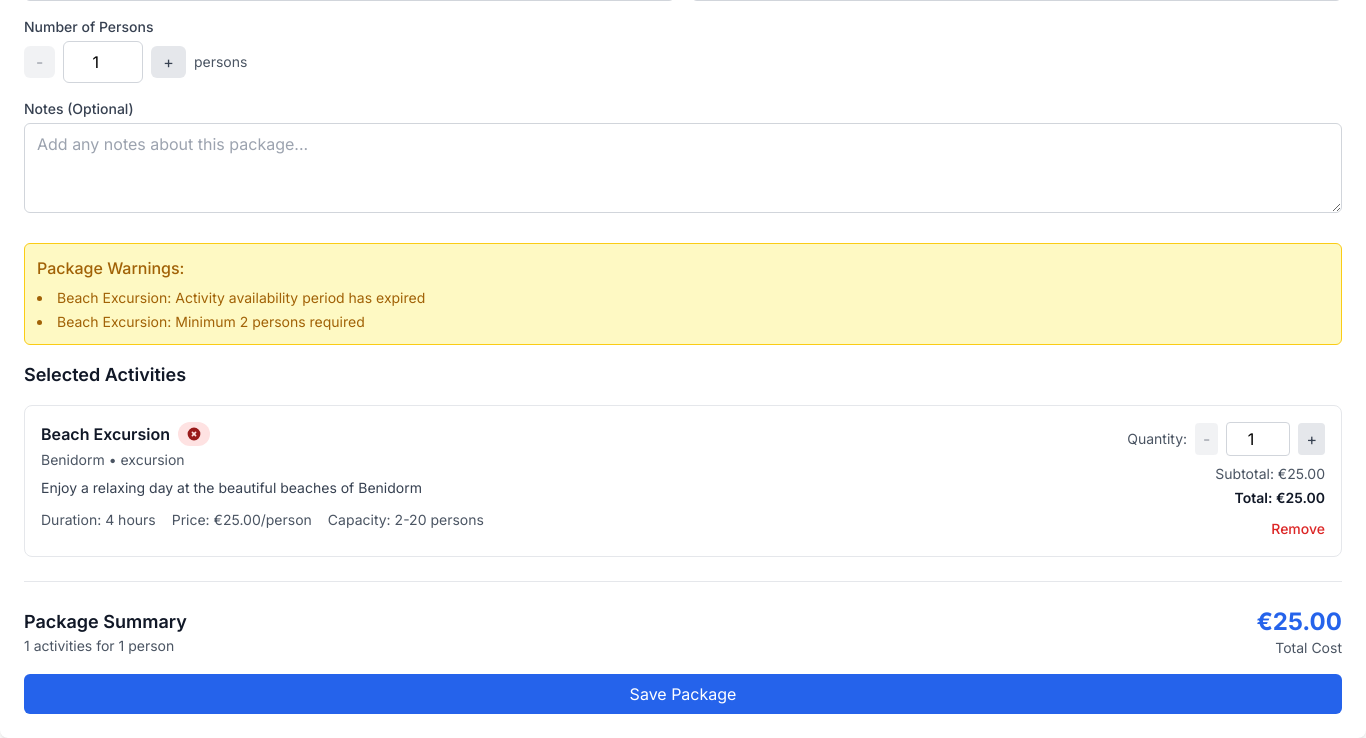
Scenario: PackageBuilder Component › handles save error
The image size is (1366, 738).
(page scrolled)
Click the button "Save Package": (683,694) [24,674,1342,714]
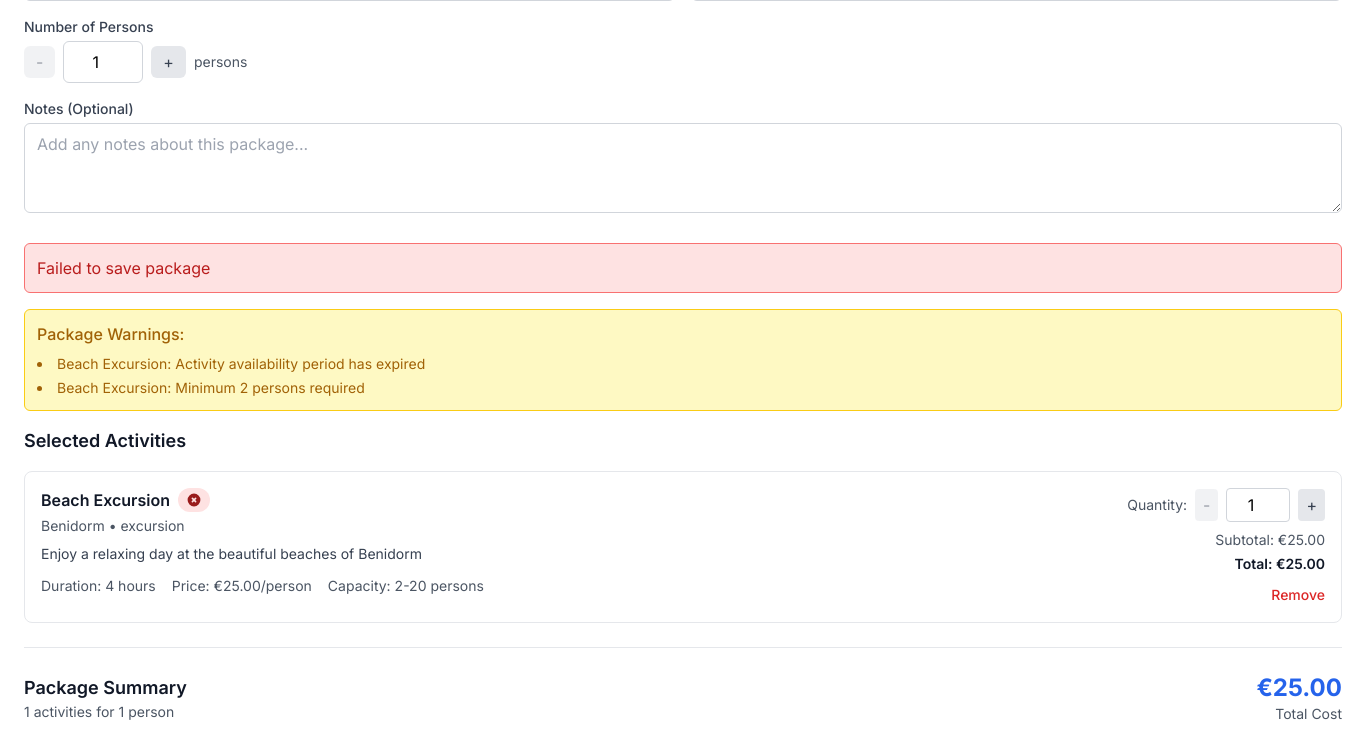
Expected: the text "Failed to save package" is shown, [24,243,1342,293]
